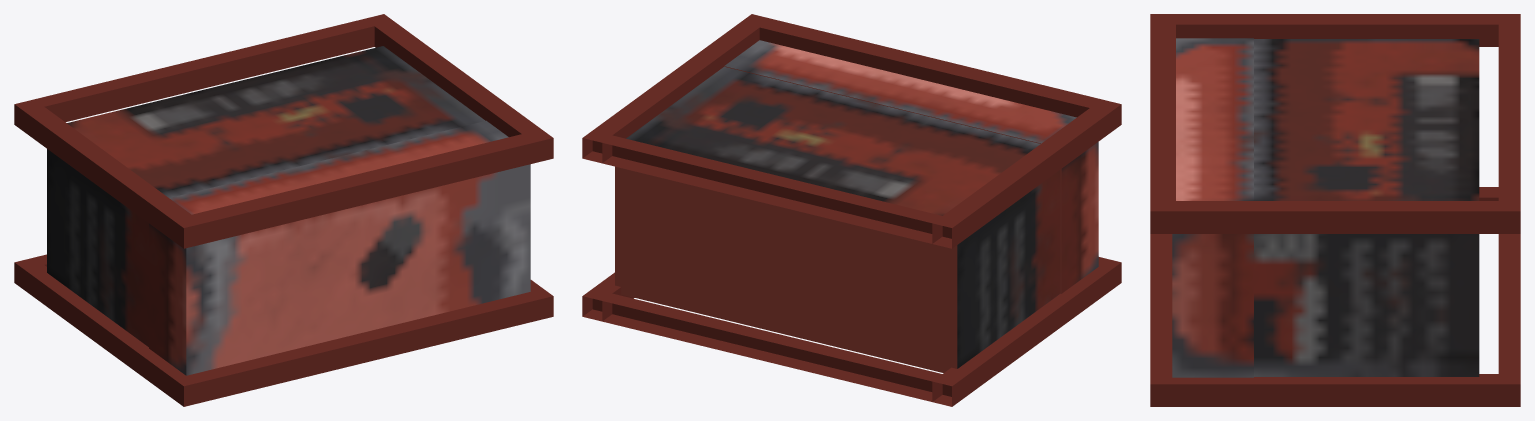
The model's file is pz_g023_appliances_misc_01_red_generator.obj.
The picture shows the model from 3 angles, left to right: view 1: azimuth 30°, elevation 25°; view 2: azimuth 150°, elevation 25°; view 3: azimuth 270°, elevation 25°; orthographic projection. The views are drawn at different scales.
Parts seen in each view (by area): view 1: fuel_tank_top, engine_case_front, frame_top_grip_top, engine_case_right, frame_vertical_right, frame_vertical_front, frame_top_grip_front, fuel_tank_front, frame_base_top, fuel_tank_right, frame_base_front, frame_top_grip_right; view 2: engine_case_bottom, engine_case_front, engine_case_right, fuel_tank_front, frame_vertical_right, frame_vertical_front, frame_base_top, frame_base_front, frame_base_rear, fuel_tank_right, frame_top_grip_front, frame_top_grip_bottom (+3 smaller); view 3: engine_case_front, engine_case_left, frame_vertical_left, fuel_tank_front, fuel_tank_left, frame_vertical_front, frame_top_grip_front, frame_base_front, frame_top_grip_left, frame_base_left.
Part boxes in pixels (x1,y1,x2,y2): fuel_tank_top: [186, 164, 530, 375]; engine_case_front: [67, 46, 485, 197]; frame_top_grip_top: [184, 138, 553, 406]; engine_case_right: [47, 149, 148, 346]; frame_vertical_right: [14, 26, 521, 397]; frame_vertical_front: [15, 14, 541, 377]; frame_top_grip_front: [172, 129, 552, 386]; fuel_tank_front: [169, 120, 508, 214]; frame_base_top: [44, 26, 374, 266]; fuel_tank_right: [149, 223, 186, 375]; frame_base_front: [15, 14, 392, 264]; frame_top_grip_right: [172, 220, 183, 406]; engine_case_bottom: [615, 166, 957, 372]; engine_case_front: [626, 66, 1040, 215]; engine_case_right: [957, 170, 1060, 368]; fuel_tank_front: [724, 40, 1076, 143]; frame_vertical_right: [602, 28, 1109, 406]; frame_vertical_front: [583, 22, 1109, 385]; frame_base_top: [592, 140, 951, 396]; frame_base_front: [583, 130, 961, 385]; frame_base_rear: [583, 151, 951, 405]; fuel_tank_right: [1061, 142, 1098, 293]; frame_top_grip_front: [740, 14, 1120, 270]; frame_top_grip_bottom: [759, 27, 1089, 117]; engine_case_front: [1254, 39, 1479, 200]; engine_case_left: [1254, 234, 1479, 376]; frame_vertical_left: [1176, 24, 1520, 406]; fuel_tank_front: [1176, 38, 1253, 200]; fuel_tank_left: [1172, 234, 1253, 377]; frame_vertical_front: [1176, 14, 1520, 384]; frame_top_grip_front: [1150, 14, 1175, 384]; frame_base_front: [1498, 14, 1520, 384]; frame_top_grip_left: [1150, 211, 1175, 406]; frame_base_left: [1498, 211, 1520, 406].
Size of the model in its own units: 0.6743 by 0.3116 by 0.5351.
Materials: 1 (1 with a texture image).
